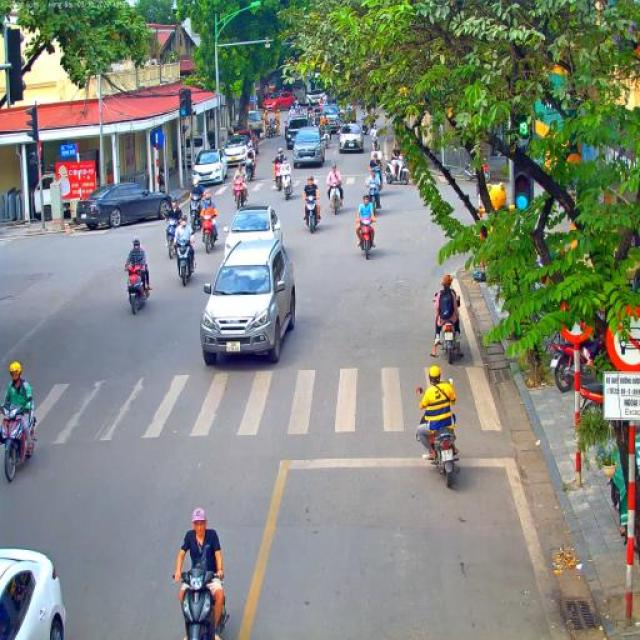bus: (532, 68, 640, 212), (290, 70, 328, 108)
car: (198, 240, 298, 366), (0, 547, 66, 640), (76, 182, 173, 228), (222, 205, 283, 264), (192, 148, 228, 188), (292, 126, 326, 168), (221, 133, 254, 171), (284, 114, 310, 150), (339, 122, 365, 154), (233, 129, 261, 156), (321, 104, 341, 136), (263, 97, 282, 114), (280, 90, 294, 110)
motorcycle: (416, 378, 462, 488), (171, 559, 230, 640), (0, 398, 39, 482), (548, 342, 596, 393), (432, 294, 463, 365), (124, 264, 150, 314), (172, 237, 197, 287), (164, 217, 182, 259), (463, 156, 492, 182), (580, 381, 604, 412), (383, 157, 409, 185), (358, 219, 374, 260), (201, 214, 217, 253), (303, 195, 319, 234), (188, 195, 202, 234), (232, 178, 248, 210), (329, 181, 342, 215), (365, 183, 380, 211), (279, 170, 293, 200), (272, 160, 284, 191), (243, 155, 256, 181), (320, 128, 328, 148), (369, 136, 379, 152), (337, 116, 345, 135), (360, 120, 370, 135), (268, 124, 276, 138)
truck: (246, 110, 264, 140)
